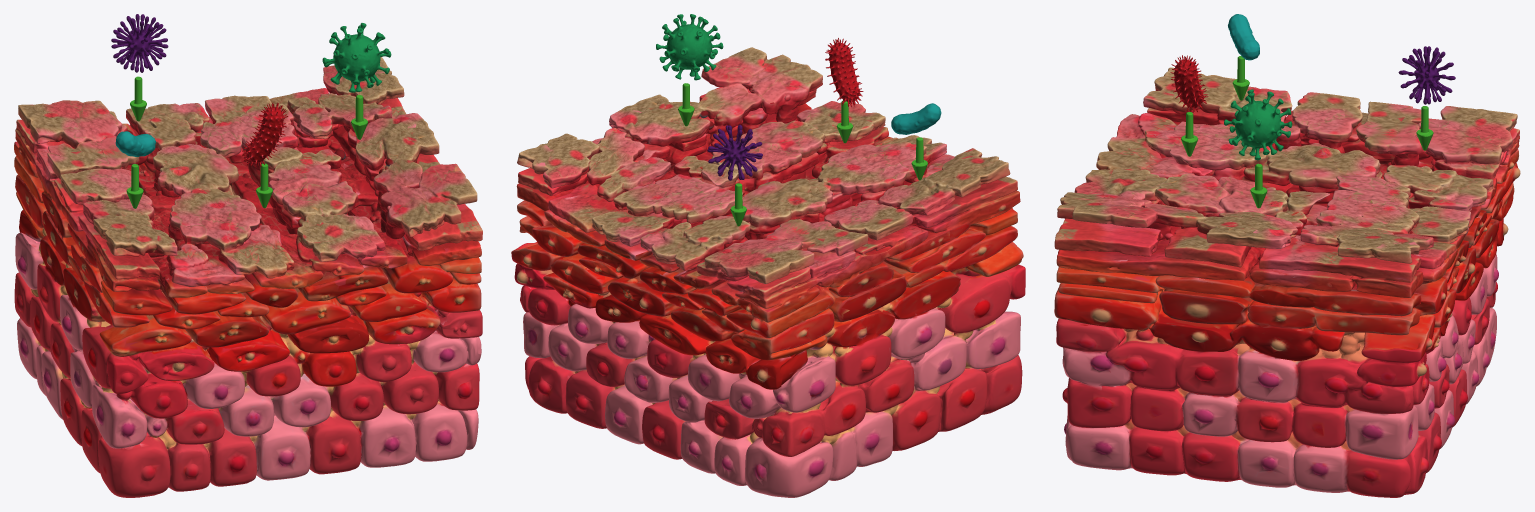
File: skin-eczema.glb
3 views of the same model, side by side, from view 1: azimuth 30°, elevation 25°; view 2: azimuth 150°, elevation 25°; view 3: azimuth 270°, elevation 25° (orthographic). The views are drawn at different scales.
Parts seen in each view (by area): view 1: Bad Skin, Virus 3, Virus 4, Virus 1, Virus 2; view 2: Bad Skin, Virus 3, Virus 4, Virus 1, Virus 2; view 3: Bad Skin, Virus 3, Virus 4, Virus 1, Virus 2.
Boxes of the visible parts, box(x1,y1,x2,y2) form: Bad Skin: box(14, 57, 482, 497); Virus 3: box(322, 23, 391, 92); Virus 4: box(111, 14, 168, 72); Virus 1: box(242, 102, 288, 167); Virus 2: box(115, 131, 155, 156); Bad Skin: box(511, 47, 1025, 497); Virus 3: box(656, 14, 723, 80); Virus 4: box(707, 124, 762, 180); Virus 1: box(825, 38, 863, 106); Virus 2: box(891, 103, 941, 134); Bad Skin: box(1054, 67, 1520, 497); Virus 3: box(1224, 89, 1292, 160); Virus 4: box(1398, 46, 1455, 104); Virus 1: box(1170, 55, 1208, 111); Virus 2: box(1228, 14, 1259, 60).
Bounding box in the file's own units: 0.5468 × 0.4805 × 0.5547.
6 materials, 2 textured.
